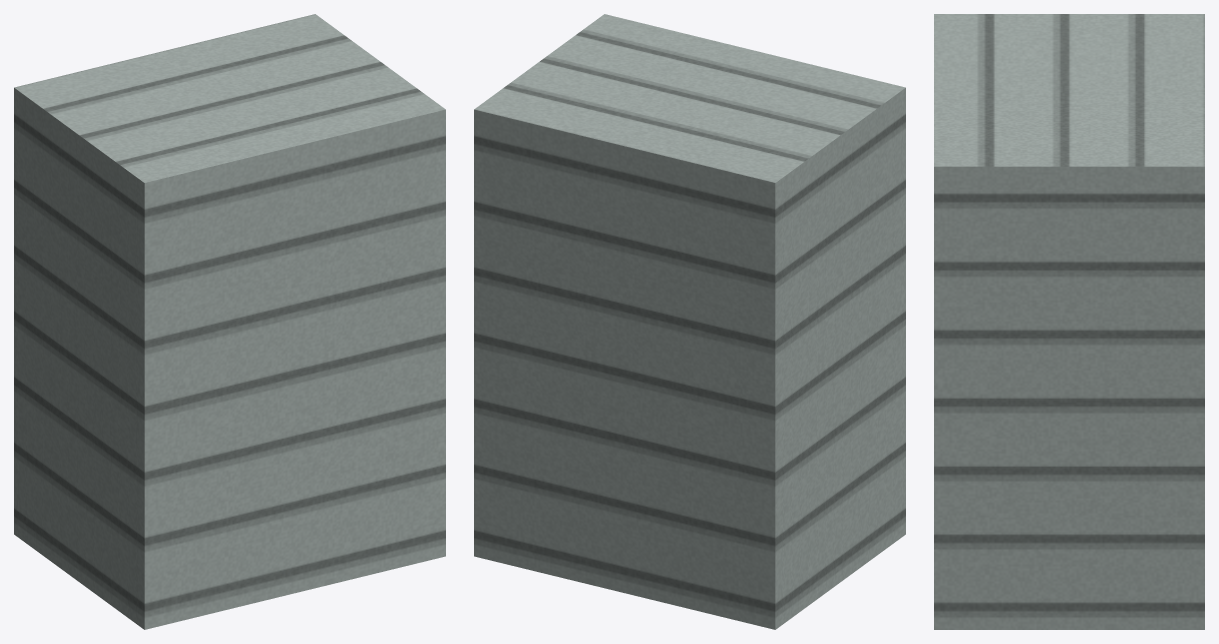
The model's file is bathroom_sink_vanity.glb.
3 renders of one model, left to right at view 1: azimuth 30°, elevation 25°; view 2: azimuth 150°, elevation 25°; view 3: azimuth 270°, elevation 25°, orthographic. The views are drawn at different scales.
Visible parts, largest first — view 1: bathroom_sink_vanity-col; view 2: bathroom_sink_vanity-col; view 3: bathroom_sink_vanity-col.
Boxes of the visible parts, x1,y1,x2,y2 form: bathroom_sink_vanity-col: [14, 14, 445, 629]; bathroom_sink_vanity-col: [474, 14, 905, 629]; bathroom_sink_vanity-col: [934, 14, 1204, 629].
Size of the model in its own units: 0.6 by 0.85 by 0.45.
1 material, 1 textured.
